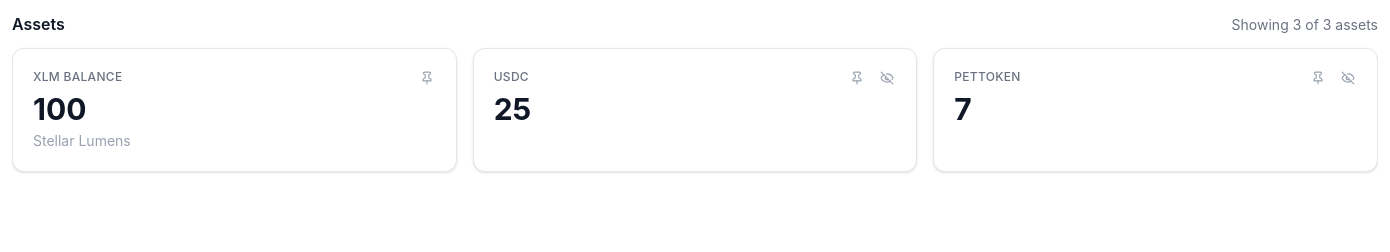
Test: WalletAssetList › keeps working for the session when storage is denied
Click the button named "Hide USDC" at (887, 78), box [874,65,900,91]
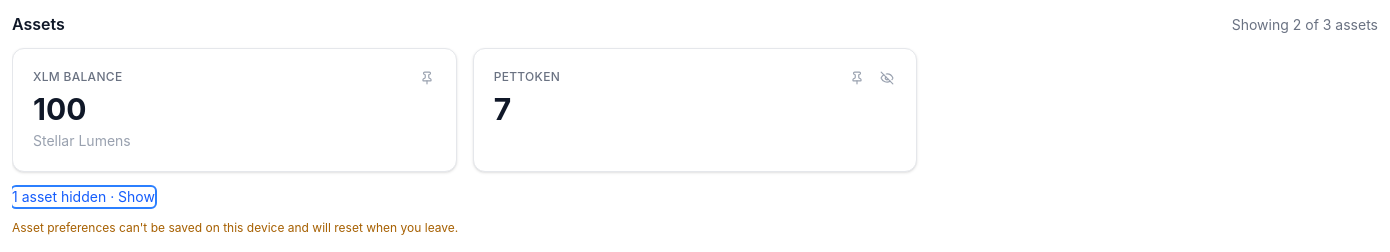
Now the button "1 asset hidden · Show" is shown, box [12,187,155,207]
Now the text "can't be saved on this device" is shown, box [12,220,458,235]
